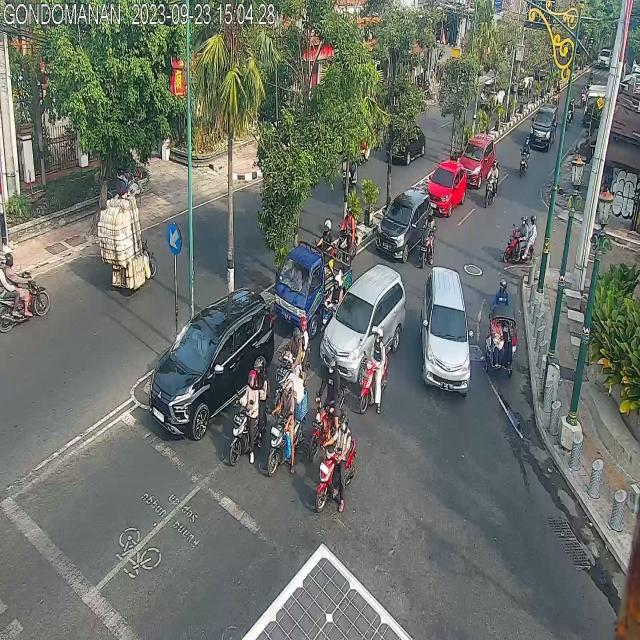car: (146, 296, 278, 434), (321, 269, 407, 386), (421, 264, 472, 401), (374, 187, 434, 262), (428, 157, 467, 223), (385, 115, 426, 166), (460, 130, 497, 186), (528, 104, 558, 150)
motorcycle: (314, 408, 357, 517), (0, 242, 50, 332), (266, 366, 304, 480), (232, 369, 260, 464), (502, 216, 537, 273)
truck: (276, 247, 351, 334)
